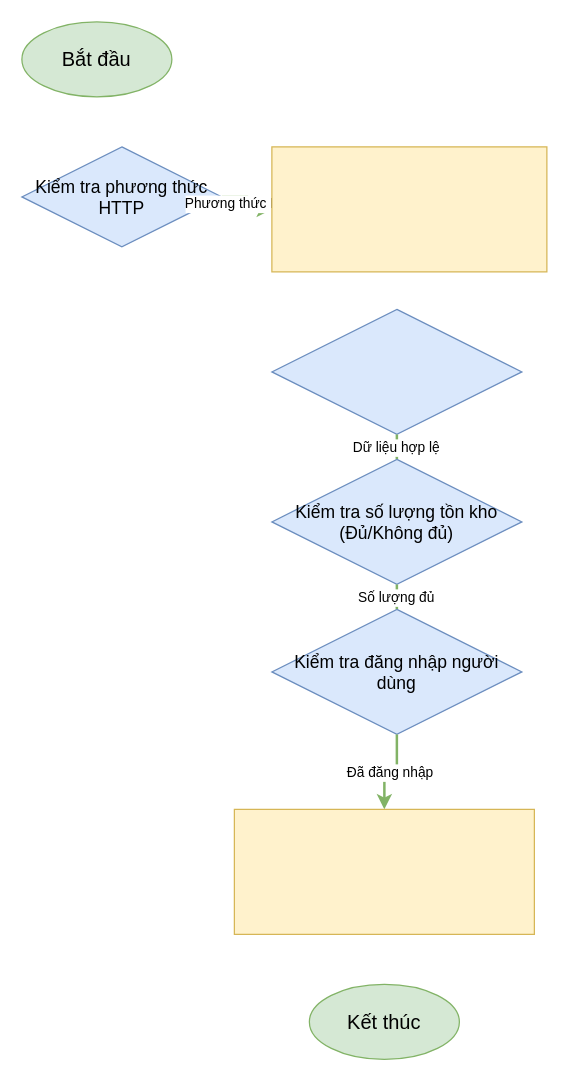
The diagram is 569 pixels wide and 1081 high, and some of its shapes have lost their labels. Each missing label, with the centre of its shape:
Kiểm tra dữ liệu sản phẩm (Hợp lệ/Không hợp lệ): the point at 396,371
Kiểm tra giỏ hàng (Tạo mới hoặc cập nhật): the point at 383,871
Nhận dữ liệu từ POST (ID sản phẩm, số lượng, giá...): the point at 409,209
